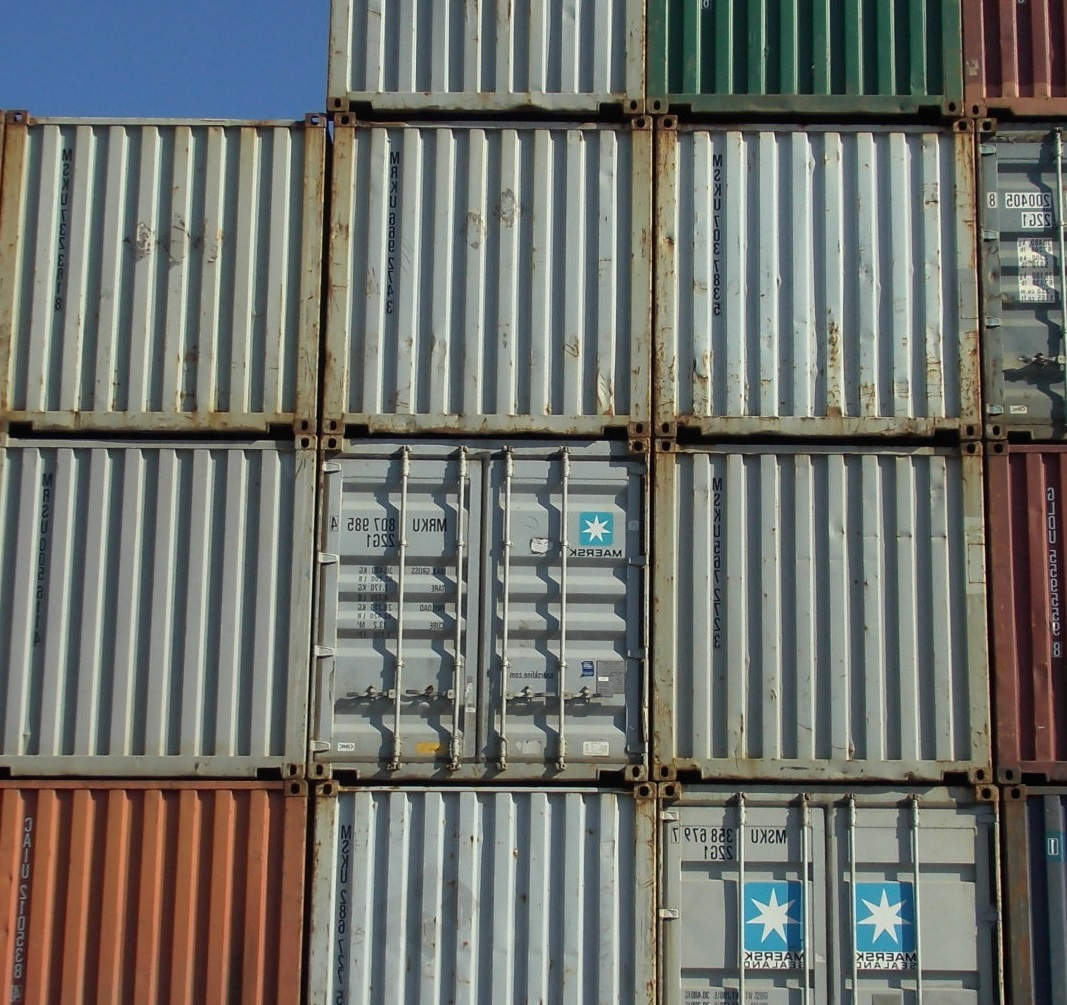container_door: (324, 431, 650, 776), (657, 779, 1001, 1005)
container_no_door: (653, 441, 995, 780), (1, 436, 318, 776), (8, 110, 331, 436), (331, 109, 654, 435), (661, 118, 984, 444), (307, 774, 656, 1005), (1, 774, 307, 1004), (324, 1, 647, 110), (646, 1, 969, 110)
